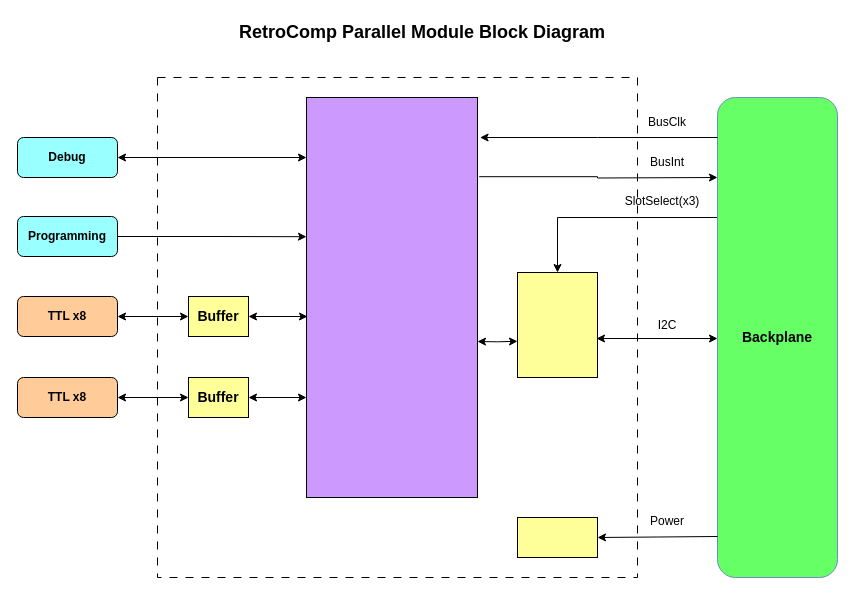
Some shapes in this 855 by 595 pixel diagram are drawn without their labels. Each missing label, with the centre of its shape:
Config: (x=557, y=325)
Power Filter: (x=557, y=537)
TBD: (x=392, y=297)
